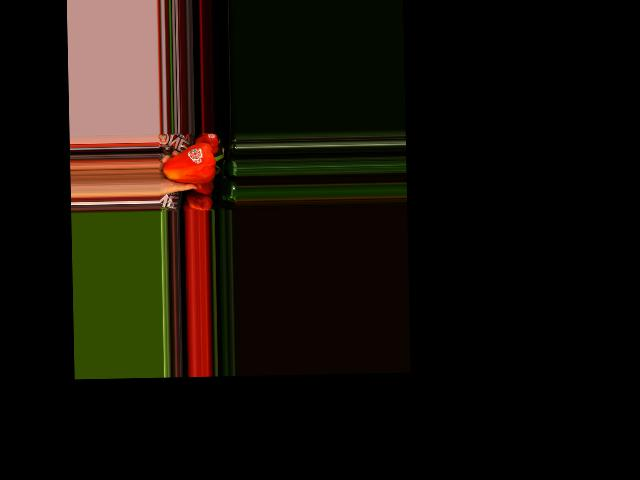bell_pepper: (163, 141, 225, 188)
